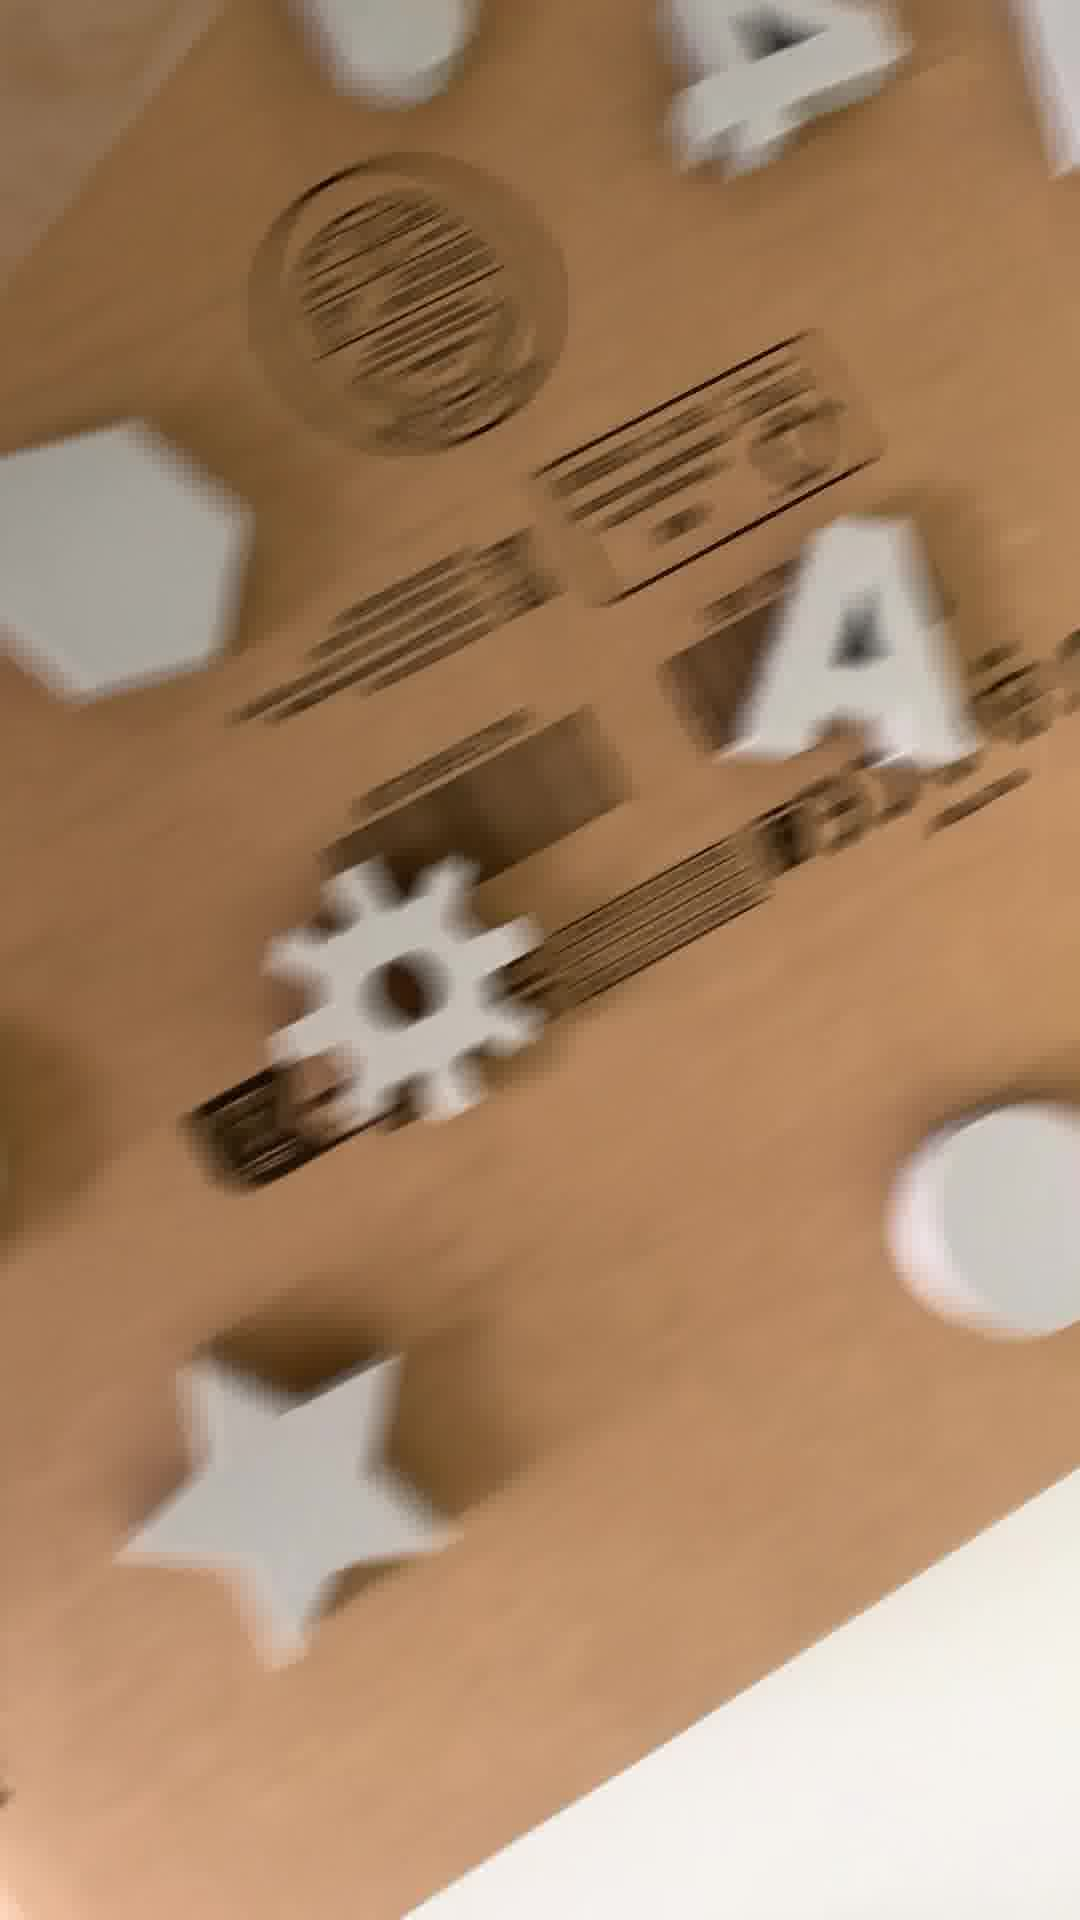Gray A-letter: (717, 518, 984, 767)
Gray circle: (861, 1102, 1080, 1328)
Gray four: (659, 1, 906, 204)
Gray gear: (249, 844, 560, 1153)
Gray hexagon: (1, 430, 266, 705)
Gray star: (120, 1346, 469, 1658)
